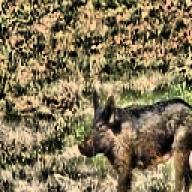boar: (76, 90, 192, 192)
